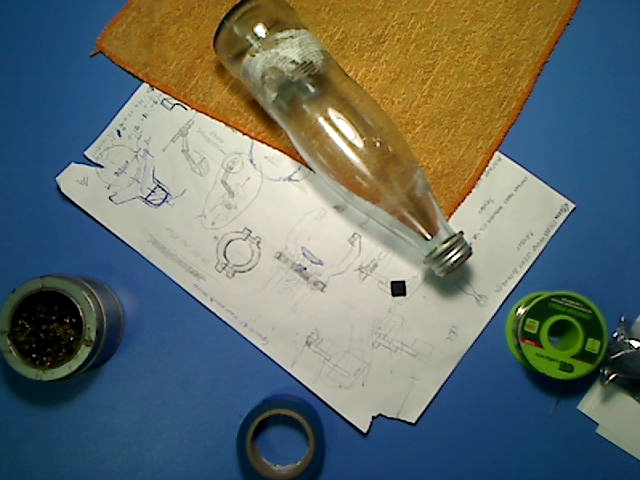bottle: (213, 1, 473, 279)
